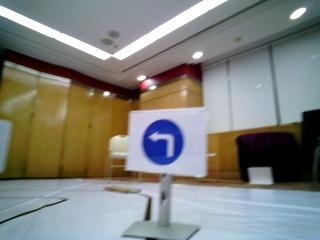left: (132, 111, 197, 173)
